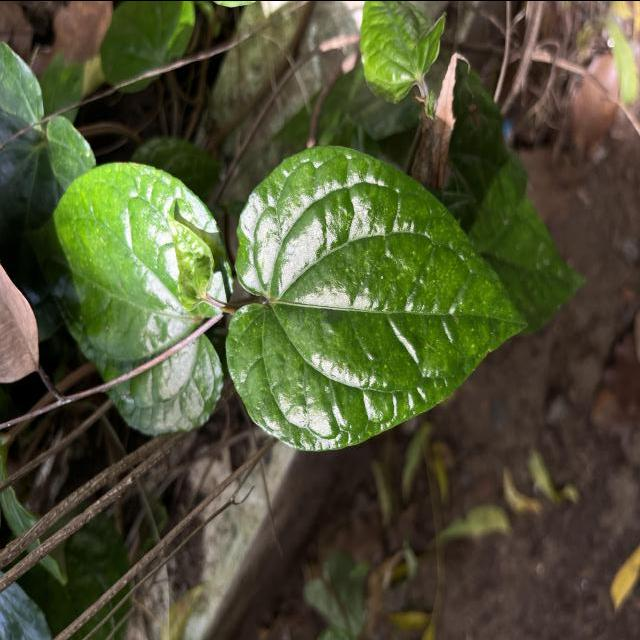Piper betle: (222, 140, 534, 454)
